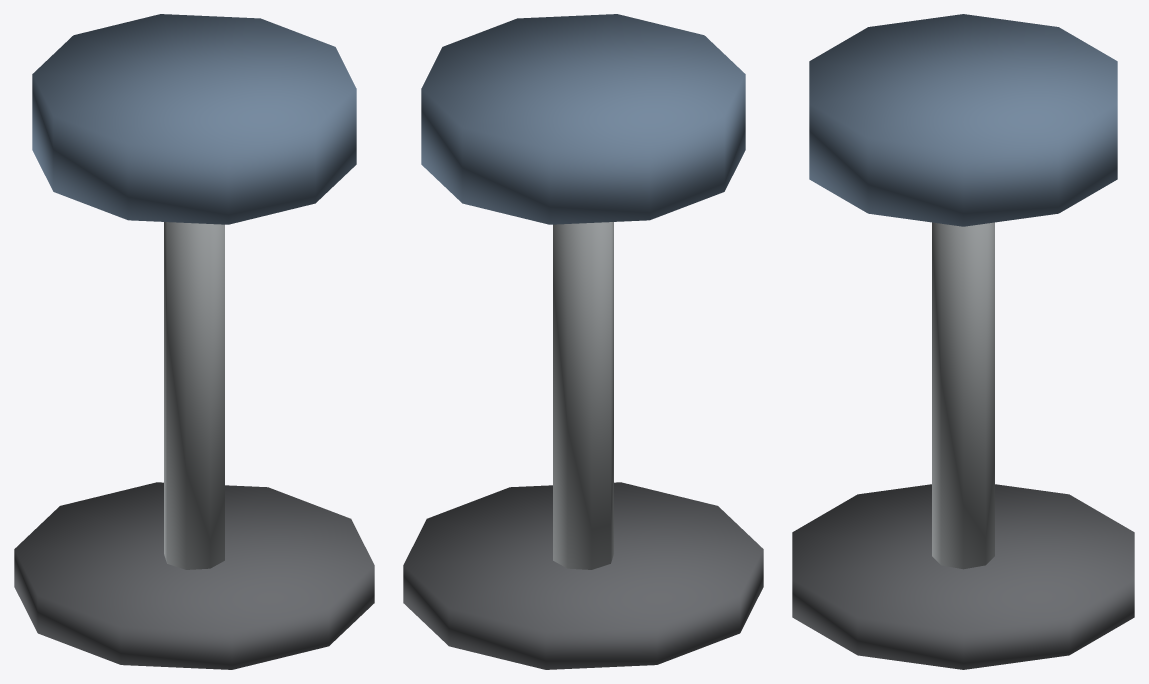
Rendered from lab_stool__tall.glb.
3 views of the same model, side by side, from view 1: azimuth 30°, elevation 25°; view 2: azimuth 150°, elevation 25°; view 3: azimuth 270°, elevation 25° (orthographic).
Parts seen in each view (by area): view 1: world; view 2: world; view 3: world.
Part boxes in pixels (x1,y1,x2,y2): world: (14,14,374,669); world: (403,14,763,669); world: (792,14,1134,669).
Size of the model in its own units: 0.4 by 0.6264 by 0.3804.
